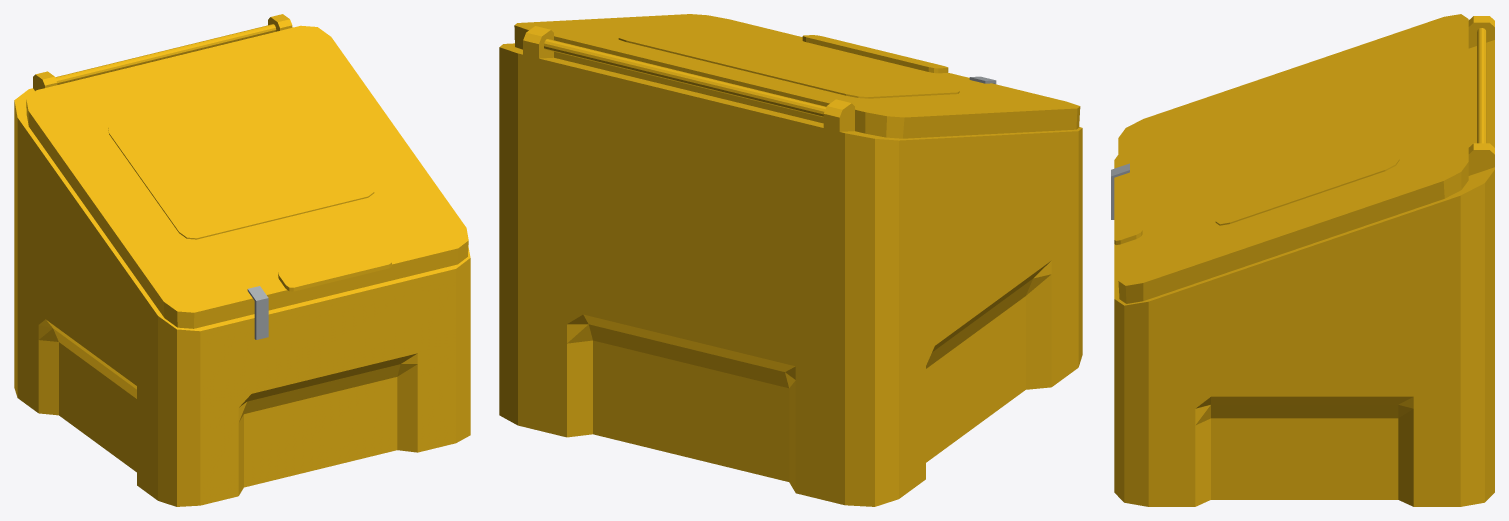
The picture shows the model from 3 angles, left to right: view 1: azimuth 30°, elevation 25°; view 2: azimuth 150°, elevation 25°; view 3: azimuth 270°, elevation 25°; orthographic projection. The views are drawn at different scales.
Visible parts, largest first — view 1: 01_Closed_molded_body_with_four_corner_feet_and_real_recesse, 02_Thick_closed_sloping_hinged_lid, 03_Shallow_raised_molded_lid_panel, 04_Front_overhanging_lifting_lip, 06_Rear_hinge_axis, 07_Off_center_bent_metal_hasp; view 2: 01_Closed_molded_body_with_four_corner_feet_and_real_recesse, 02_Thick_closed_sloping_hinged_lid, 03_Shallow_raised_molded_lid_panel, 06_Rear_hinge_axis, 04_Front_overhanging_lifting_lip, 05_left_raised_rear_hinge_support, 05_right_raised_rear_hinge_support; view 3: 01_Closed_molded_body_with_four_corner_feet_and_real_recesse, 02_Thick_closed_sloping_hinged_lid, 03_Shallow_raised_molded_lid_panel, 04_Front_overhanging_lifting_lip, 06_Rear_hinge_axis, 05_right_raised_rear_hinge_support, 05_left_raised_rear_hinge_support.
Boxes of the visible parts, box(x1,y1,x2,y2) form: 01_Closed_molded_body_with_four_corner_feet_and_real_recesse: box(14, 27, 470, 506); 02_Thick_closed_sloping_hinged_lid: box(26, 25, 468, 328); 03_Shallow_raised_molded_lid_panel: box(108, 79, 374, 239); 04_Front_overhanging_lifting_lip: box(278, 246, 391, 291); 06_Rear_hinge_axis: box(55, 24, 276, 84); 07_Off_center_bent_metal_hasp: box(247, 286, 268, 339); 01_Closed_molded_body_with_four_corner_feet_and_real_recesse: box(499, 43, 1082, 506); 02_Thick_closed_sloping_hinged_lid: box(514, 14, 1080, 138); 03_Shallow_raised_molded_lid_panel: box(618, 32, 959, 98); 06_Rear_hinge_axis: box(544, 39, 826, 117); 04_Front_overhanging_lifting_lip: box(802, 35, 948, 73); 05_left_raised_rear_hinge_support: box(823, 99, 854, 131); 05_right_raised_rear_hinge_support: box(523, 26, 553, 58); 01_Closed_molded_body_with_four_corner_feet_and_real_recesse: box(1114, 40, 1494, 506); 02_Thick_closed_sloping_hinged_lid: box(1118, 14, 1468, 303); 03_Shallow_raised_molded_lid_panel: box(1215, 63, 1399, 225); 04_Front_overhanging_lifting_lip: box(1114, 177, 1142, 244); 06_Rear_hinge_axis: box(1477, 28, 1486, 143); 05_right_raised_rear_hinge_support: box(1468, 143, 1494, 175); 05_left_raised_rear_hinge_support: box(1468, 16, 1494, 48).
Bounding box in the file's own units: 0.75 × 0.71 × 0.726.
